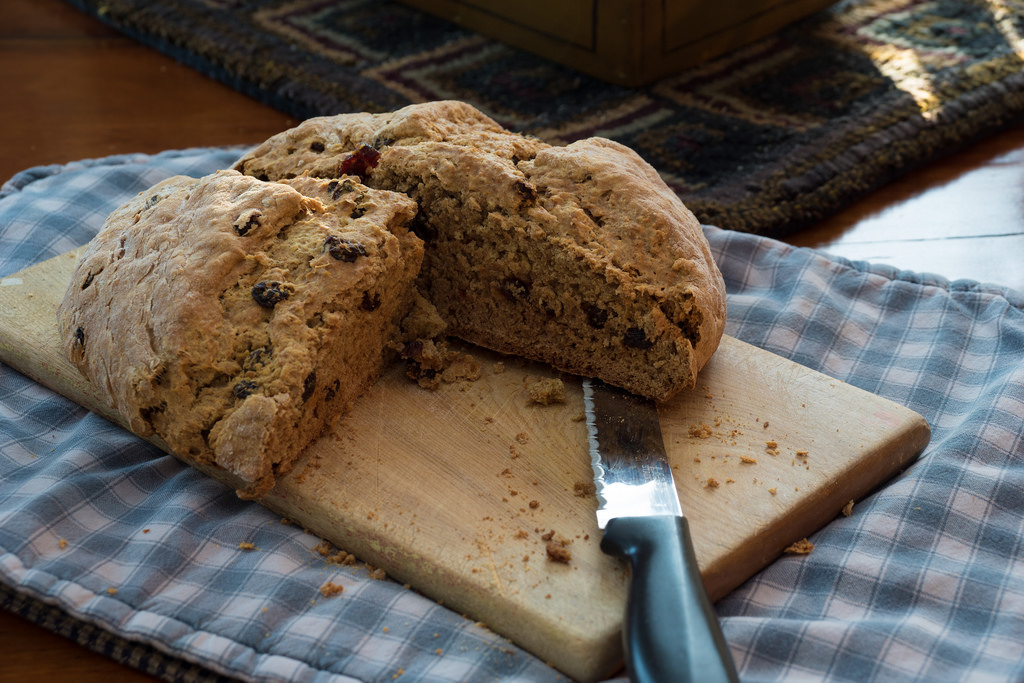slice of bread: (239, 106, 732, 401), (70, 172, 446, 455)
